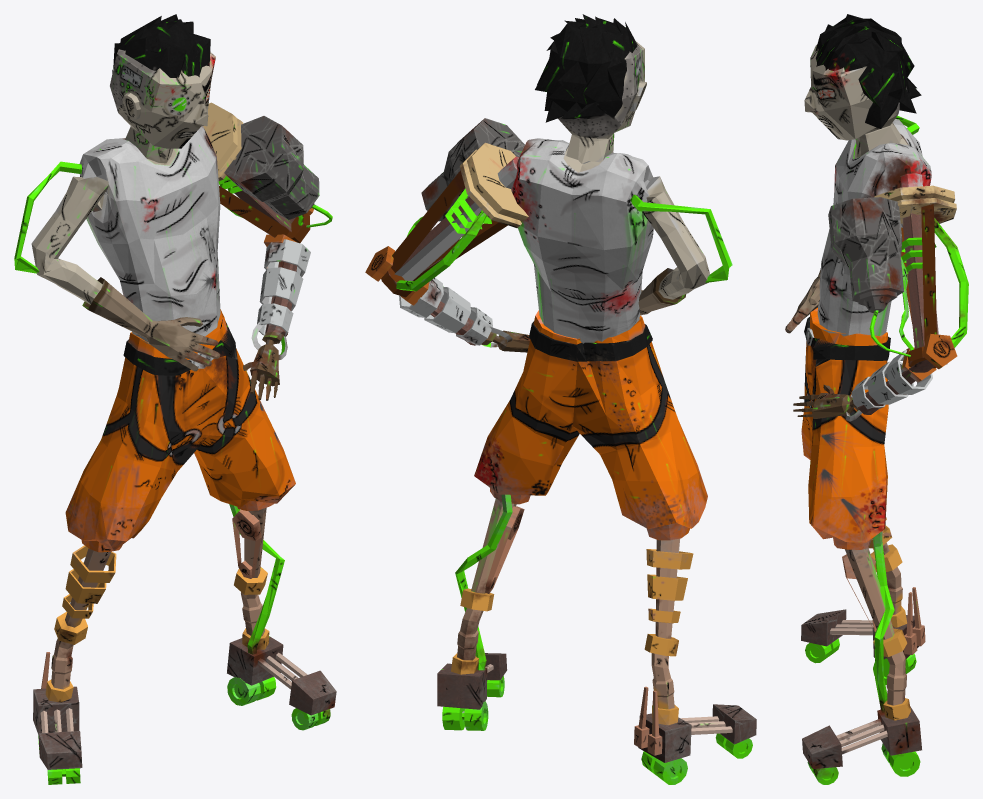
Rendered from CyborgFINALAnimation_000077.obj.
3 renders of one model, left to right at view 1: azimuth 30°, elevation 25°; view 2: azimuth 150°, elevation 25°; view 3: azimuth 270°, elevation 25°, orthographic. The views are drawn at different scales.
Parts seen in each view (by area): view 1: CyborgMesh_Cube.002; view 2: CyborgMesh_Cube.002; view 3: CyborgMesh_Cube.002.
Part boxes in pixels (x1=…): CyborgMesh_Cube.002: x1=14, y1=14, x2=336, y2=784; CyborgMesh_Cube.002: x1=365, y1=14, x2=756, y2=784; CyborgMesh_Cube.002: x1=785, y1=14, x2=968, y2=784.
Size of the model in its own units: 4.57 by 9.6 by 2.28.
